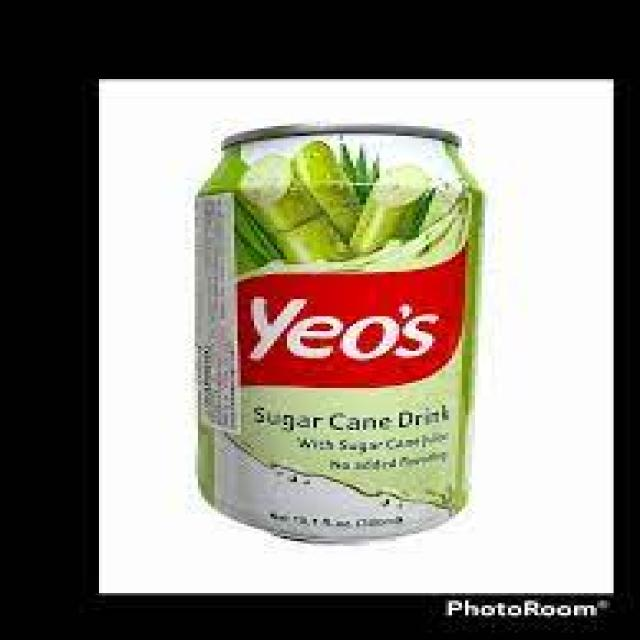Cans: (181, 109, 485, 551)
